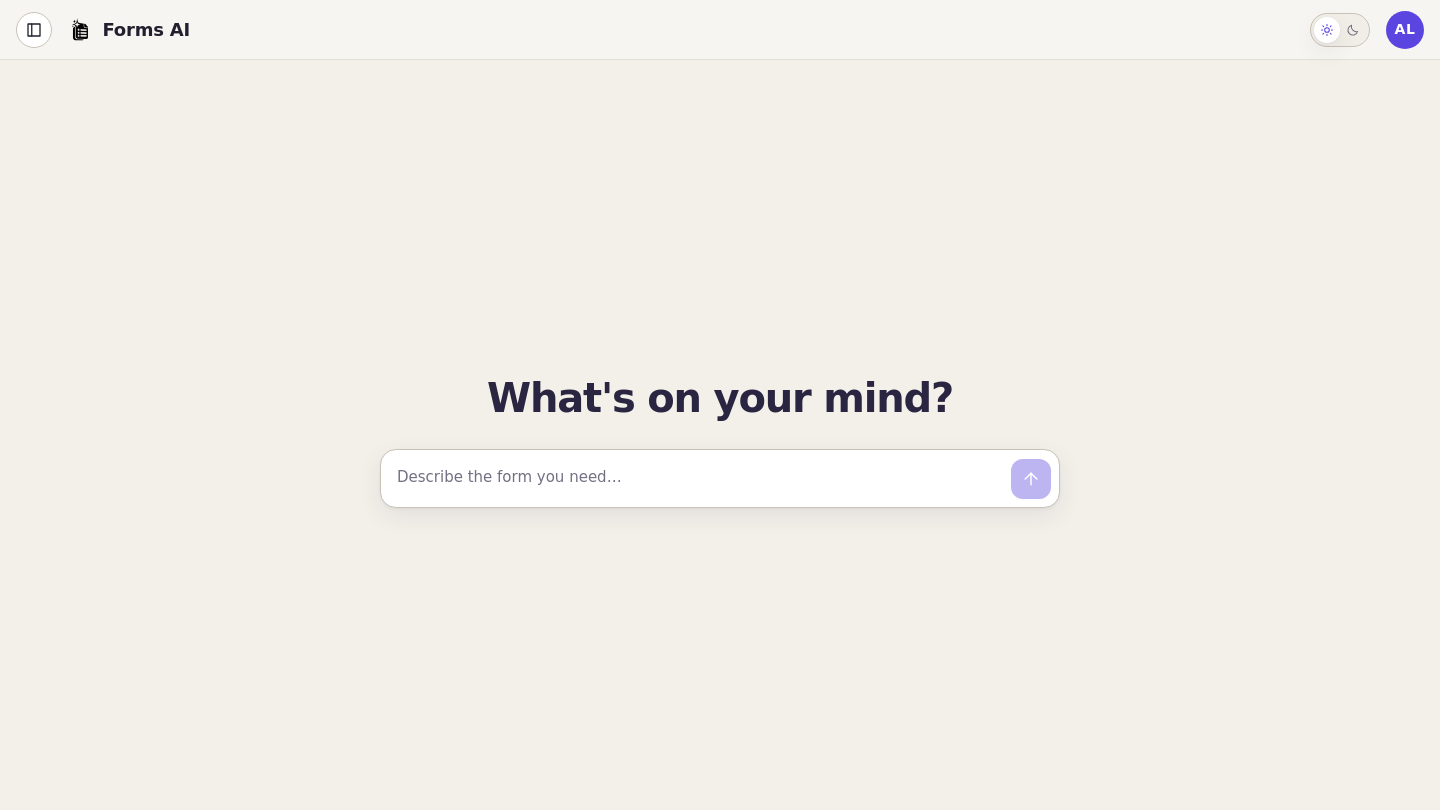
chat workspace › opens the sidebar and only then loads conversation metadata
Click the button named "Open sidebar" at (34, 30), box [16,12,52,48]
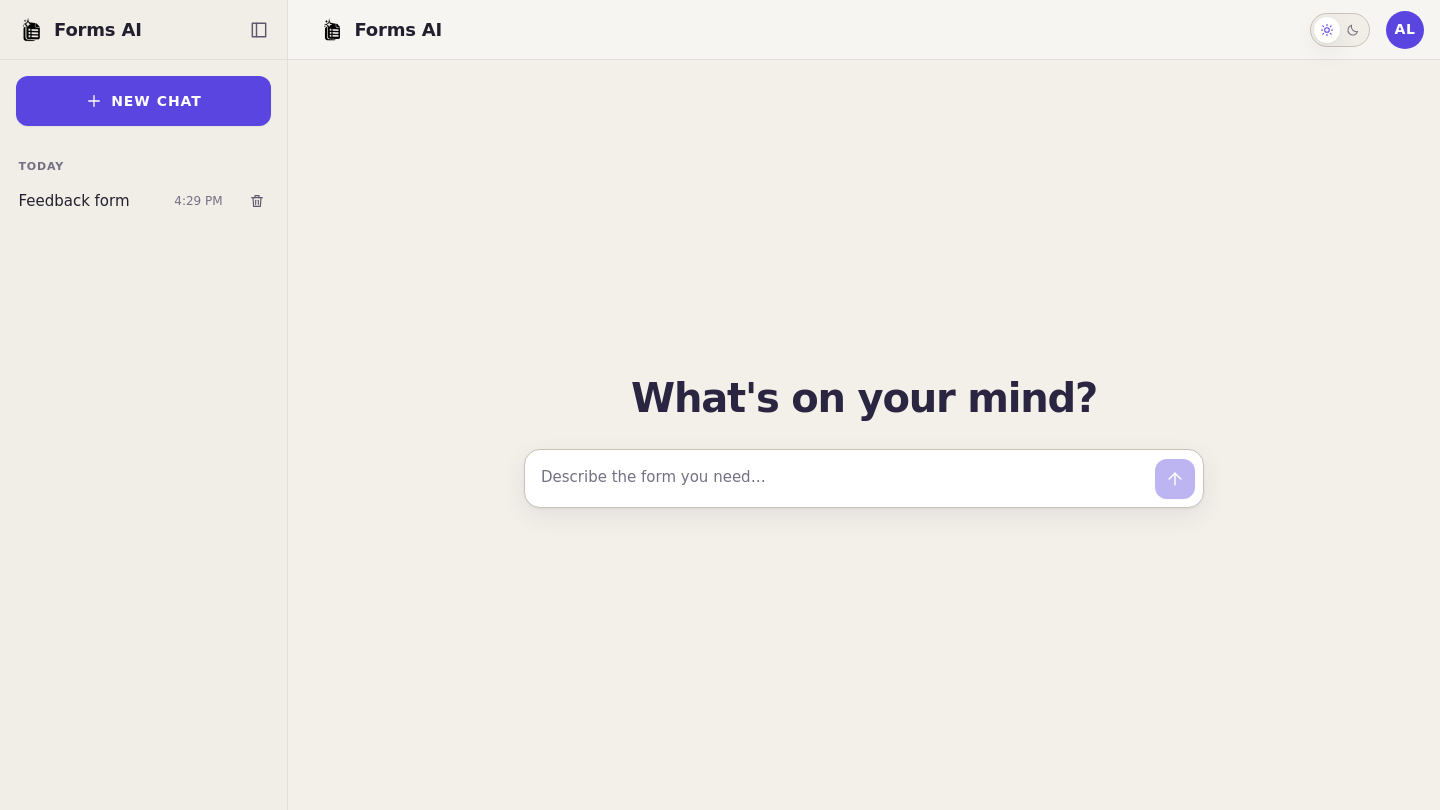
Check: the heading "Today" is shown, box [18,160,64,173]
